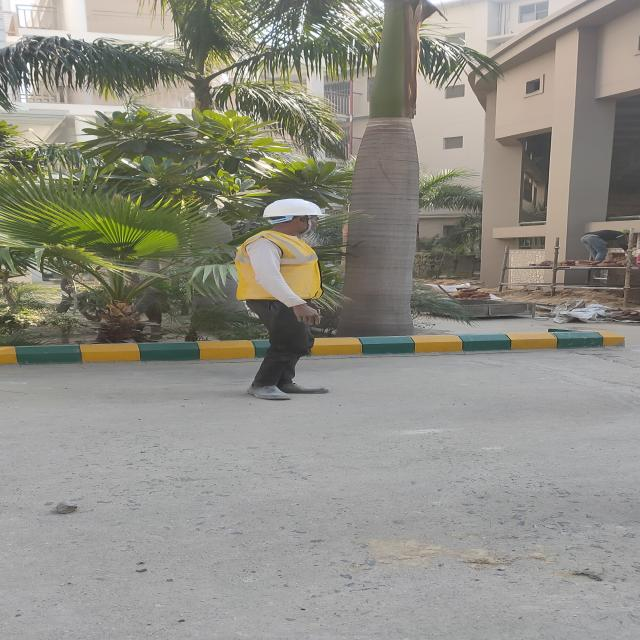safe: (237, 198, 331, 400)
unsafe: (581, 230, 630, 260)
